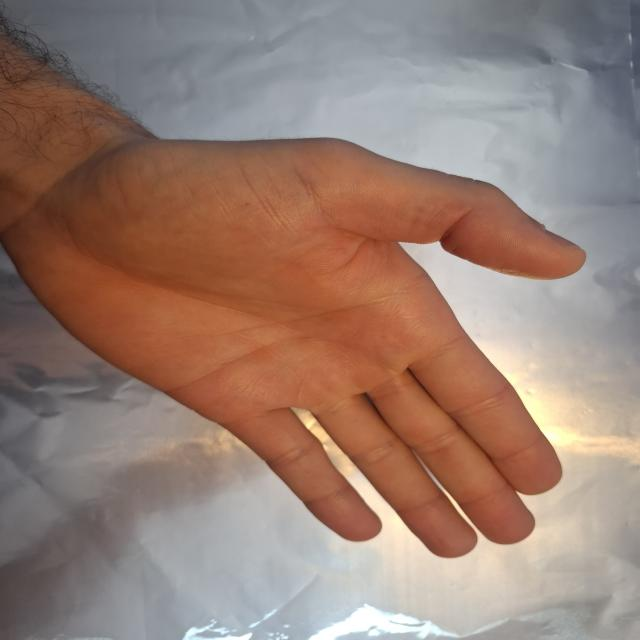glove_off: (1, 112, 590, 562)
